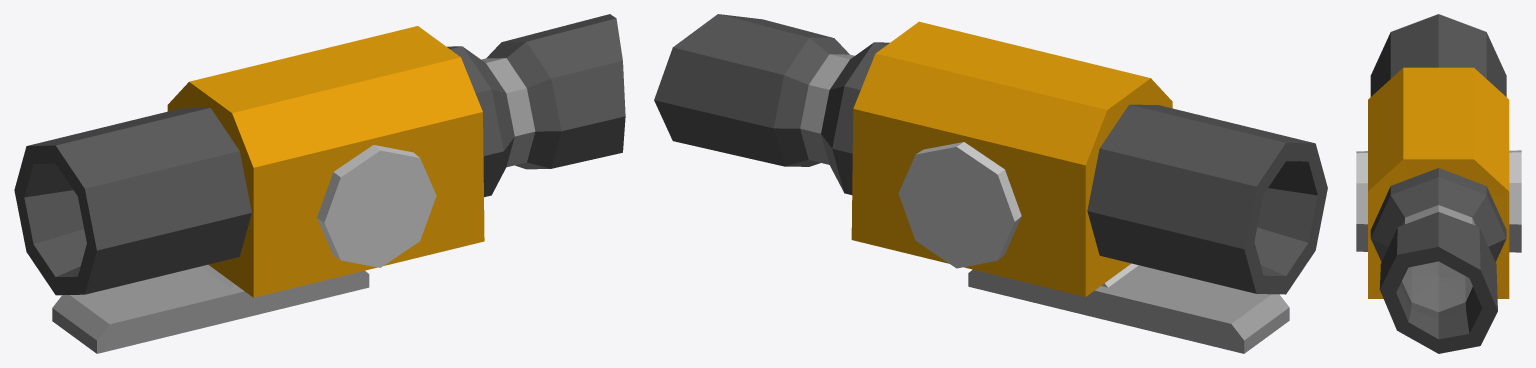
The model's file is SM_FLIR.fbx.
3 renders of one model, left to right at view 1: azimuth 30°, elevation 25°; view 2: azimuth 150°, elevation 25°; view 3: azimuth 270°, elevation 25°, orthographic. The views are drawn at different scales.
Visible parts, largest first — view 1: SM_FLIR; view 2: SM_FLIR; view 3: SM_FLIR.
Part boxes in pixels (box(x1,y1,x2,y2)): SM_FLIR: box(14, 14, 625, 353); SM_FLIR: box(654, 14, 1327, 353); SM_FLIR: box(1356, 14, 1521, 353).
Size of the model in its own units: 20.07 by 6.75 by 5.95.
